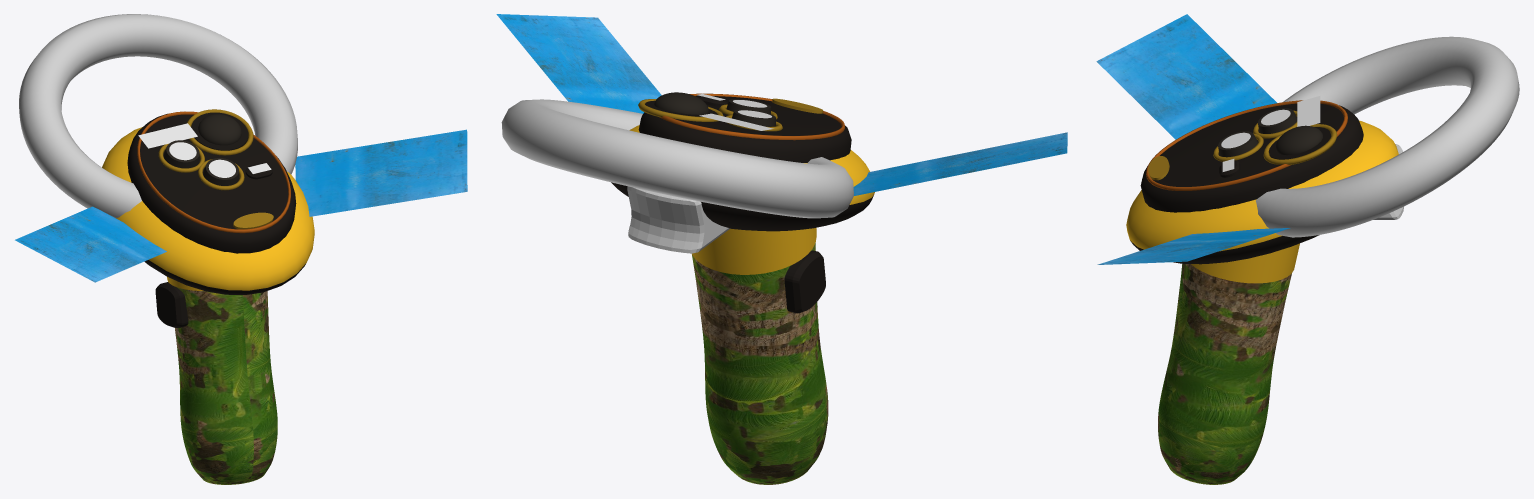
File: right.fbx
The picture shows the model from 3 angles, left to right: view 1: azimuth 30°, elevation 25°; view 2: azimuth 150°, elevation 25°; view 3: azimuth 270°, elevation 25°; orthographic projection. The views are drawn at different scales.
Visible parts, largest first — view 1: TrackingRing, Handle, FacePlate, Wing_R_Mesh, Head, Wing_L_Mesh, Grip, Thumbstick, Button_B, Button_A, Thumbrest; view 2: Handle, TrackingRing, Wing_R_Mesh, FacePlate, Wing_L_Mesh, Cube, Controller, Head, Grip, Thumbstick; view 3: TrackingRing, Handle, FacePlate, Wing_L_Mesh, Head, Wing_R_Mesh, Controller, Thumbstick, Button_A, Button_B.
Part boxes in pixels (box(x1,y1,x2,y2)): TrackingRing: box(19, 14, 297, 218); Handle: box(175, 287, 277, 484); FacePlate: box(127, 109, 296, 253); Wing_R_Mesh: box(295, 129, 467, 216); Head: box(102, 127, 314, 294); Wing_L_Mesh: box(15, 206, 166, 282); Grip: box(155, 282, 188, 327); Thumbstick: box(198, 114, 241, 145); Button_B: box(163, 140, 199, 168); Button_A: box(203, 158, 238, 185); Thumbrest: box(233, 212, 273, 229); Handle: box(692, 243, 828, 484); TrackingRing: box(501, 99, 853, 218); Wing_R_Mesh: box(496, 14, 661, 113); FacePlate: box(638, 93, 851, 162); Wing_L_Mesh: box(853, 132, 1067, 195); Cube: box(627, 186, 730, 253); Controller: box(692, 228, 816, 274); Head: box(611, 125, 874, 231); Grip: box(784, 250, 825, 313); Thumbstick: box(654, 92, 708, 114); TrackingRing: box(1256, 36, 1519, 237); Handle: box(1158, 264, 1291, 484); FacePlate: box(1140, 96, 1363, 212); Wing_L_Mesh: box(1096, 14, 1277, 139); Head: box(1126, 120, 1398, 264); Wing_R_Mesh: box(1097, 228, 1290, 264); Controller: box(1191, 243, 1299, 283); Thumbstick: box(1276, 125, 1322, 155); Button_A: box(1218, 131, 1257, 157); Button_B: box(1258, 108, 1297, 133).
Bounding box in the file's own units: 363 × 279 × 262.
